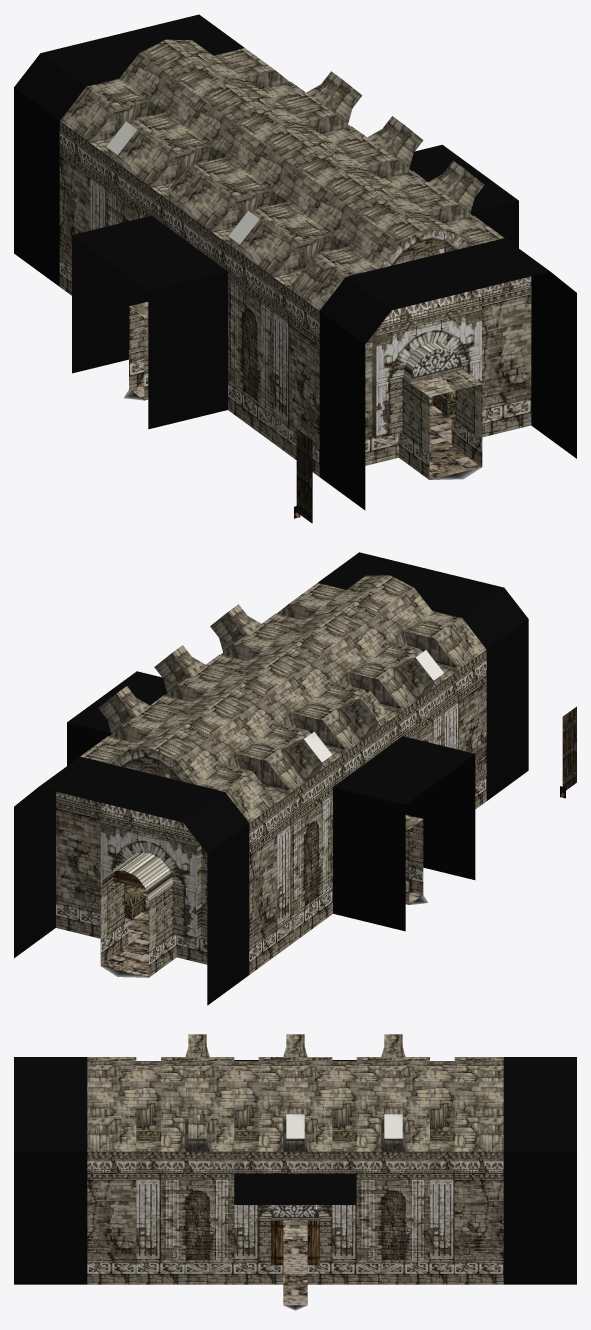
File: MAP059.obj
3 views of the same model, one above another, from view 1: azimuth 30°, elevation 25°; view 2: azimuth 150°, elevation 25°; view 3: azimuth 270°, elevation 25° (orthographic). The views are drawn at different scales.
Visible parts, largest first — view 1: mesh_33, mesh_39, mesh_40, mesh_37, mesh_27, mesh_56, mesh_22, mesh_21, mesh_51, mesh_28, mesh_23, mesh_50 (+10 smaller); view 2: mesh_33, mesh_37, mesh_40, mesh_39, mesh_27, mesh_56, mesh_10, mesh_51, mesh_9, mesh_28, mesh_11, mesh_50 (+10 smaller); view 3: mesh_33, mesh_15, mesh_37, mesh_39, mesh_45, mesh_16, mesh_46, mesh_38, mesh_56, mesh_8, mesh_18, mesh_20 (+4 smaller).
Boxes of the visible parts, x1,y1,x2,y2 form: mesh_33: (60,39,503,310); mesh_39: (319,238,576,510); mesh_40: (72,215,227,429); mesh_37: (14,14,244,286); mesh_27: (59,121,319,476); mesh_56: (108,71,484,265); mesh_22: (376,303,481,438); mesh_21: (365,287,531,438); mesh_51: (59,149,319,449); mesh_28: (90,171,288,371); mesh_23: (365,276,531,465); mesh_50: (90,226,288,426); mesh_33: (80,575,486,822); mesh_37: (14,756,249,1005); mesh_40: (333,736,475,931); mesh_39: (318,552,528,800); mesh_27: (249,650,486,974); mesh_56: (98,604,442,781); mesh_10: (100,816,197,940); mesh_51: (249,675,486,949); mesh_9: (56,801,207,940); mesh_28: (277,695,458,878); mesh_11: (56,791,207,964); mesh_50: (277,746,458,928); mesh_33: (87,1057,503,1151); mesh_15: (87,1151,503,1284); mesh_37: (503,1057,576,1284); mesh_39: (14,1057,87,1284); mesh_45: (136,1218,454,1262); mesh_16: (136,1174,454,1239); mesh_46: (87,1174,503,1262); mesh_38: (234,1174,356,1204); mesh_56: (185,1034,405,1151); mesh_8: (283,1239,307,1305); mesh_18: (258,1205,332,1262); mesh_20: (271,1220,319,1265).
Size of the model in its own units: 179 by 105 by 294.
Materials: 17 (17 with a texture image).
